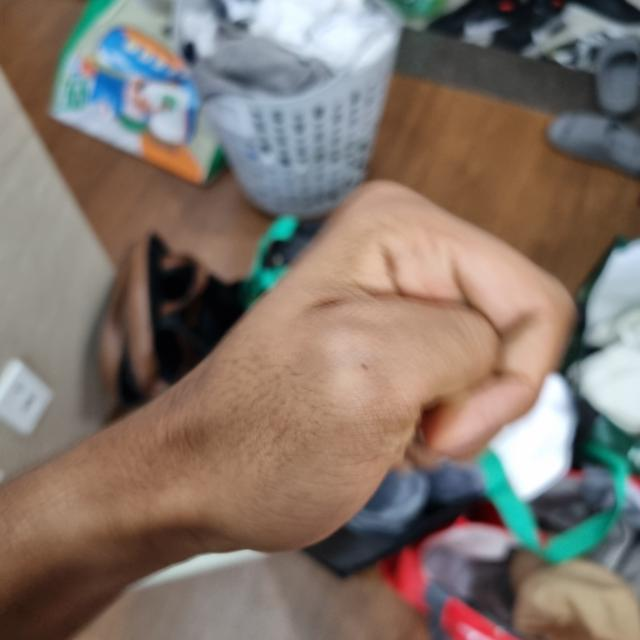Rock: (129, 187, 570, 556)
